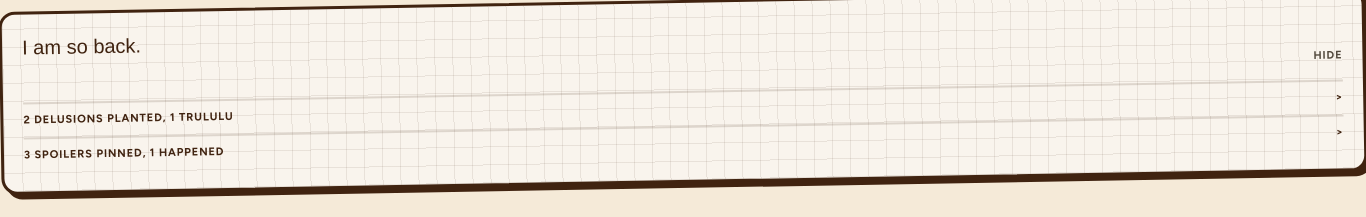
Test: CreedBlock › hides the creed body on Hide, but keeps Delusions and Spoilers
What coordinates should you click on to do the following:
click the button "Hide"
I would click on:
 (1328, 56)
Its box is [1313,47,1343,64].
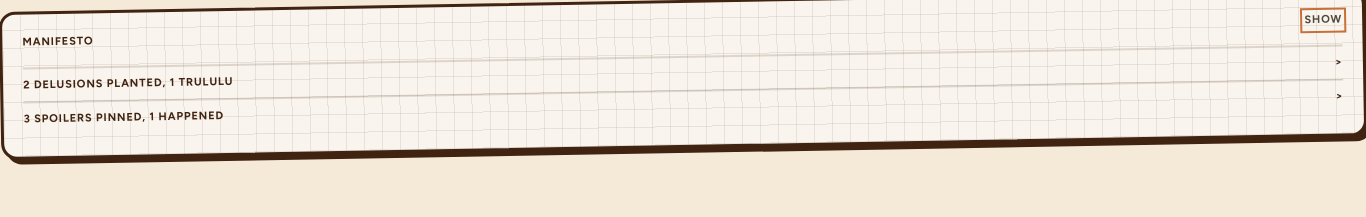
expect the link "I am so back." is gone: met
expect the button "Show" is shown: met, box [1304,12,1342,29]
